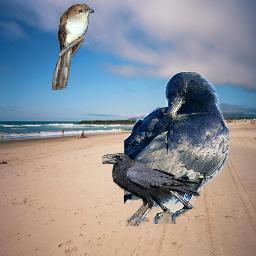Crow: (124, 71, 229, 224), (102, 153, 201, 226)
Cuckoo: (52, 3, 94, 90)
